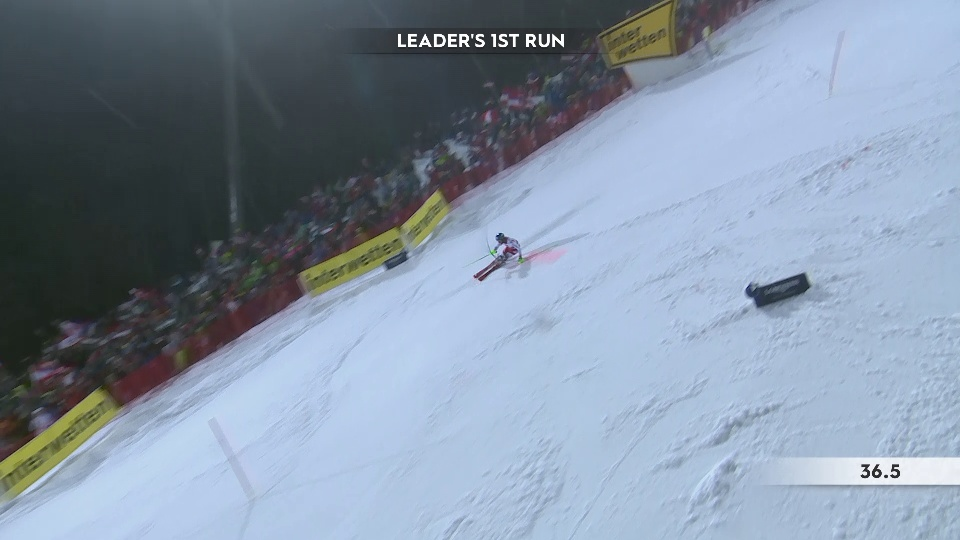interwetten: (1, 401, 109, 504), (296, 232, 405, 292), (600, 11, 668, 67)
longines: (754, 279, 805, 299)
